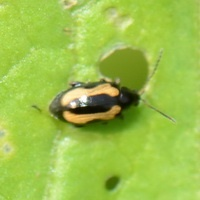insect: (49, 48, 151, 125)
